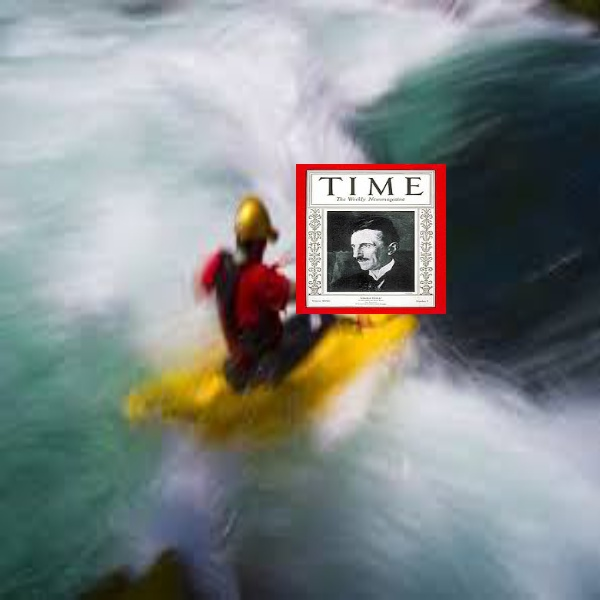time_cover: (294, 154, 453, 313)
